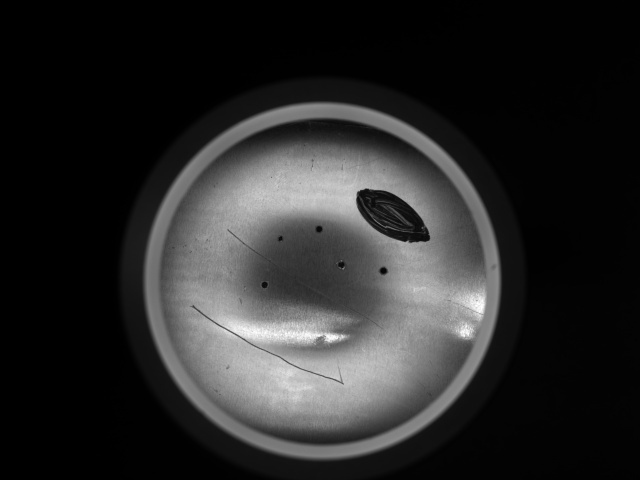ca_shang: (185, 302, 353, 403), (224, 224, 360, 329)
zang_wu: (347, 168, 436, 267)
zhen_kong: (366, 257, 401, 284), (329, 252, 357, 280), (252, 273, 279, 298), (307, 218, 332, 242), (269, 225, 292, 249)
